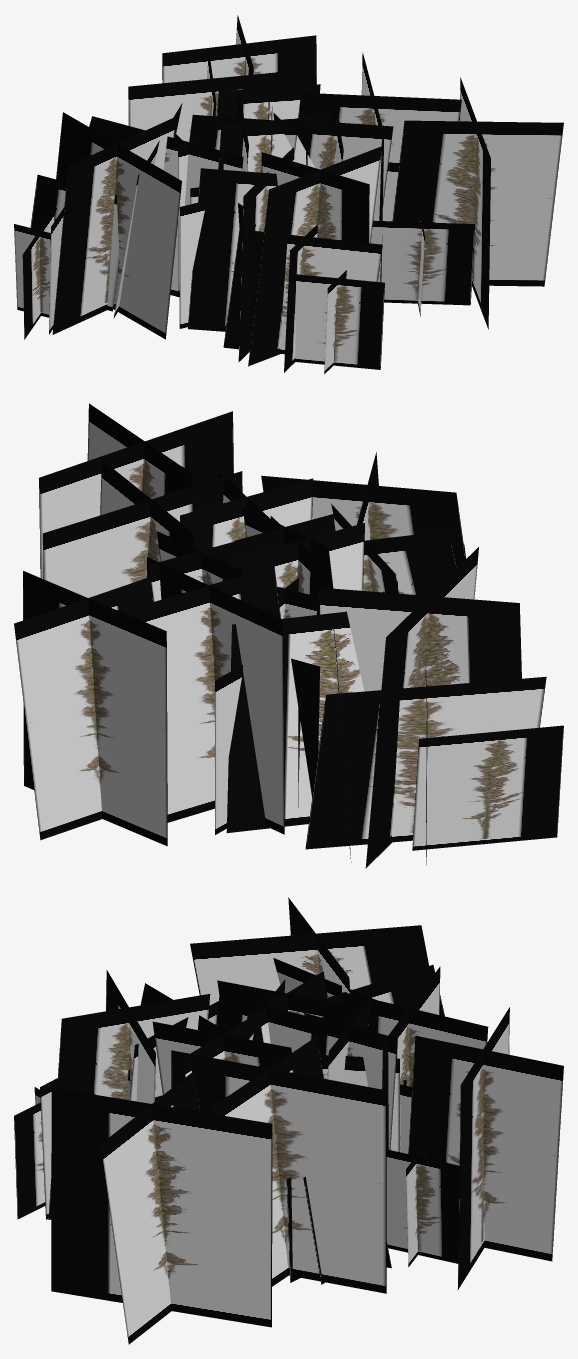
Rendered from grass.fbx.
3 views of the same model, one above another, from view 1: azimuth 30°, elevation 25°; view 2: azimuth 150°, elevation 25°; view 3: azimuth 270°, elevation 25° (orthographic). The views are drawn at different scales.
Parts seen in each view (by area): view 1: grain; view 2: grain; view 3: grain.
Part boxes in pixels (x1=…): grain: x1=14, y1=15, x2=563, y2=374; grain: x1=14, y1=403, x2=563, y2=868; grain: x1=14, y1=897, x2=563, y2=1344.
Size of the model in its own units: 121 by 46.01 by 105.
Materials: 1 (1 with a texture image).
